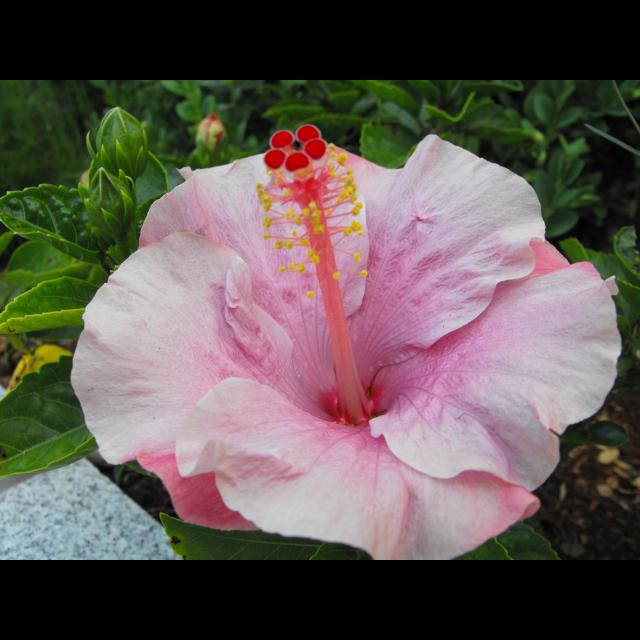Flower: (72, 144, 550, 544), (197, 112, 226, 148)
